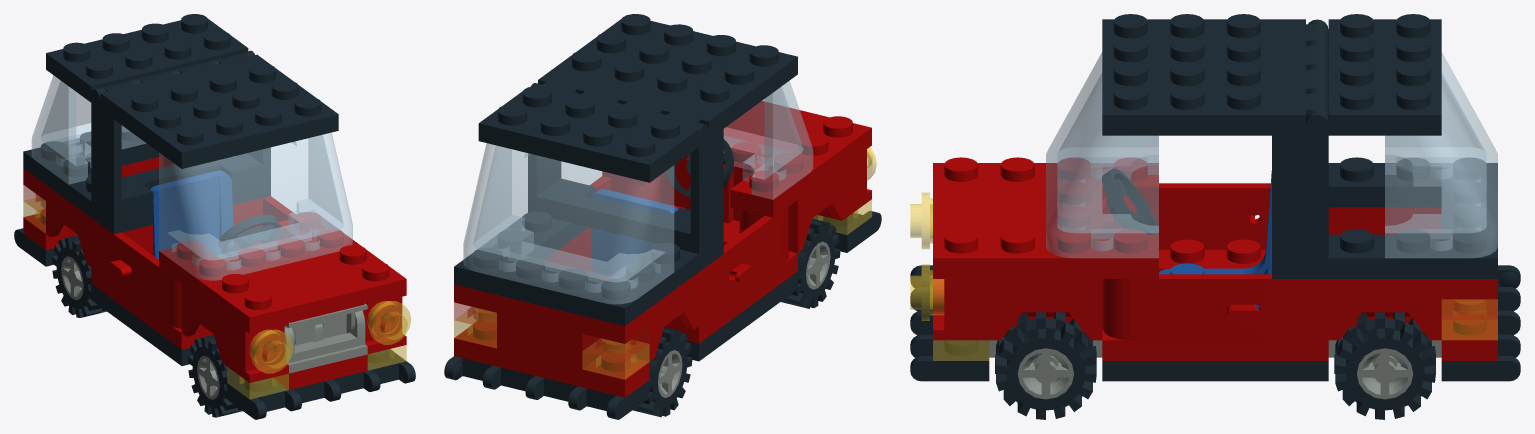
File: car.glb
The picture shows the model from 3 angles, left to right: view 1: azimuth 30°, elevation 25°; view 2: azimuth 150°, elevation 25°; view 3: azimuth 270°, elevation 25°; orthographic projection. The views are drawn at different scales.
Parts seen in each view (by area): view 1: 3823.dat (×2), 4213.dat, 3023b.dat (×7), 3020.dat (×2), 4214.dat, 4315.dat (×2), 4079.dat, 4070.dat (×2), 3068b.dat, 3024.dat (×6), 3641.dat (×2), 3821.dat (+12 smaller); view 2: 3823.dat (×2), 4213.dat, 3710.dat (×2), 3020.dat, 3023b.dat (×5), 4214.dat, 3024.dat (×8), 3004.dat (×2), 4315.dat (×2), 3623.dat (×3), 3641.dat (×2), 3821.dat (+10 smaller); view 3: 3823.dat (×2), 4213.dat, 3023b.dat (×7), 3020.dat, 3641.dat (×2), 3623.dat (×4), 3024.dat (×6), 3822.dat, 3710.dat (×2), 4315.dat (×2), 4214.dat, 3821.dat (+10 smaller).
Part boxes in pixels (x1,y1,x2,y2): 3823.dat (×2): (31, 75, 352, 280); 4213.dat: (100, 52, 338, 168); 3023b.dat (×7): (68, 176, 406, 333); 3020.dat (×2): (46, 14, 367, 389); 4214.dat: (91, 50, 270, 217); 4315.dat (×2): (14, 228, 415, 419); 4079.dat: (150, 170, 233, 259); 4070.dat (×2): (227, 297, 406, 382); 3068b.dat: (244, 255, 367, 322); 3024.dat (×6): (23, 157, 406, 399); 3641.dat (×2): (52, 235, 242, 417); 3821.dat: (108, 232, 181, 328); 3823.dat (×2): (463, 81, 813, 304); 4213.dat: (538, 14, 797, 139); 3710.dat (×2): (454, 248, 649, 397); 3020.dat: (478, 86, 698, 182); 3023b.dat (×5): (508, 116, 871, 289); 4214.dat: (528, 83, 723, 253); 3024.dat (×8): (454, 199, 871, 379); 3004.dat (×2): (497, 140, 772, 369); 4315.dat (×2): (444, 211, 881, 419); 3623.dat (×3): (454, 241, 797, 343); 3641.dat (×2): (633, 218, 840, 417); 3821.dat: (723, 207, 788, 307); 3823.dat (×2): (1046, 52, 1497, 258); 4213.dat: (1102, 14, 1328, 135); 3023b.dat (×7): (933, 157, 1384, 299); 3020.dat: (1328, 14, 1441, 135); 3641.dat (×2): (995, 312, 1435, 419); 3623.dat (×4): (1102, 207, 1497, 360); 3024.dat (×6): (933, 157, 1497, 360); 3822.dat: (1102, 274, 1271, 340); 3710.dat (×2): (1441, 157, 1497, 360); 4315.dat (×2): (910, 265, 1520, 381); 4214.dat: (1272, 19, 1328, 258); 3821.dat: (1127, 183, 1270, 249).
Size of the model in its own units: 0.036 by 0.0496 by 0.0864.
